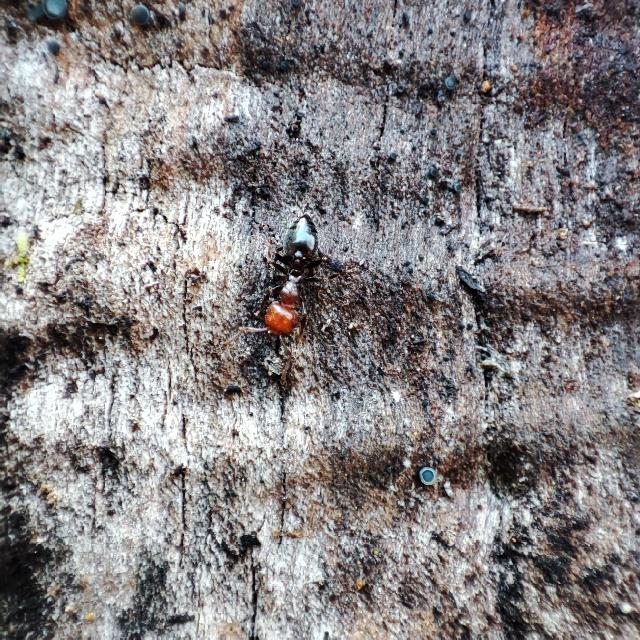Crematogaster: (244, 211, 336, 331)
